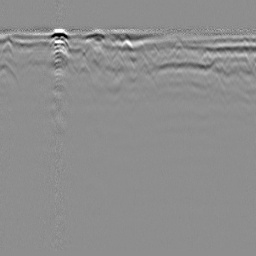cavity: (120, 38, 134, 50)
